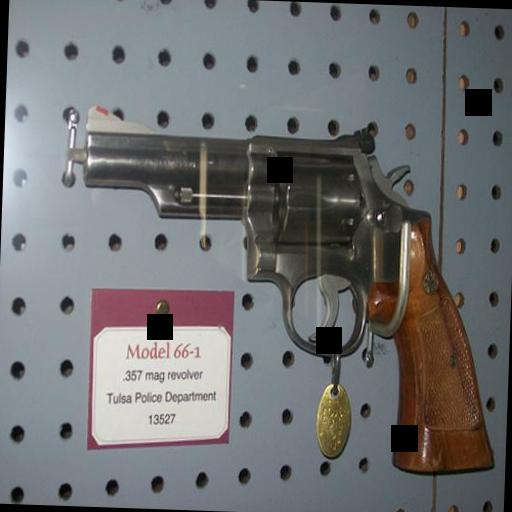Handgun: (72, 110, 506, 474)
